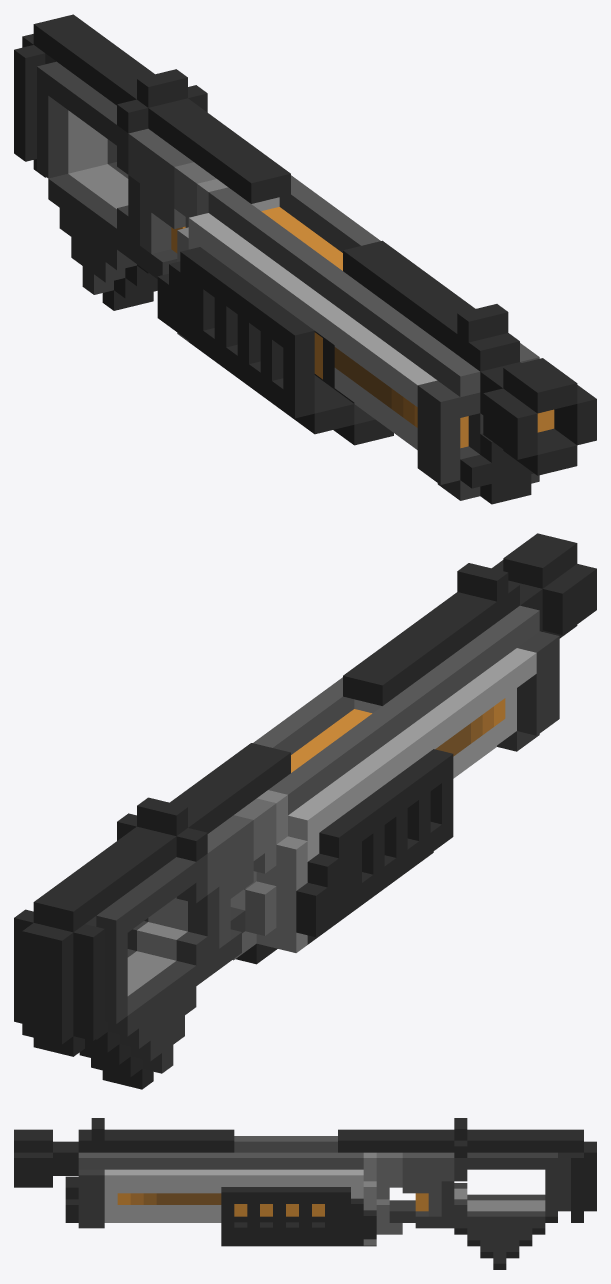
The model's file is Shotgun.obj.
3 views of the same model, one above another, from view 1: azimuth 30°, elevation 25°; view 2: azimuth 150°, elevation 25°; view 3: azimuth 270°, elevation 25° (orthographic). The views are drawn at different scales.
Bounding box in the file's own units: 0.8 × 1.2 × 4.5.
Materials: 1 (1 with a texture image).
